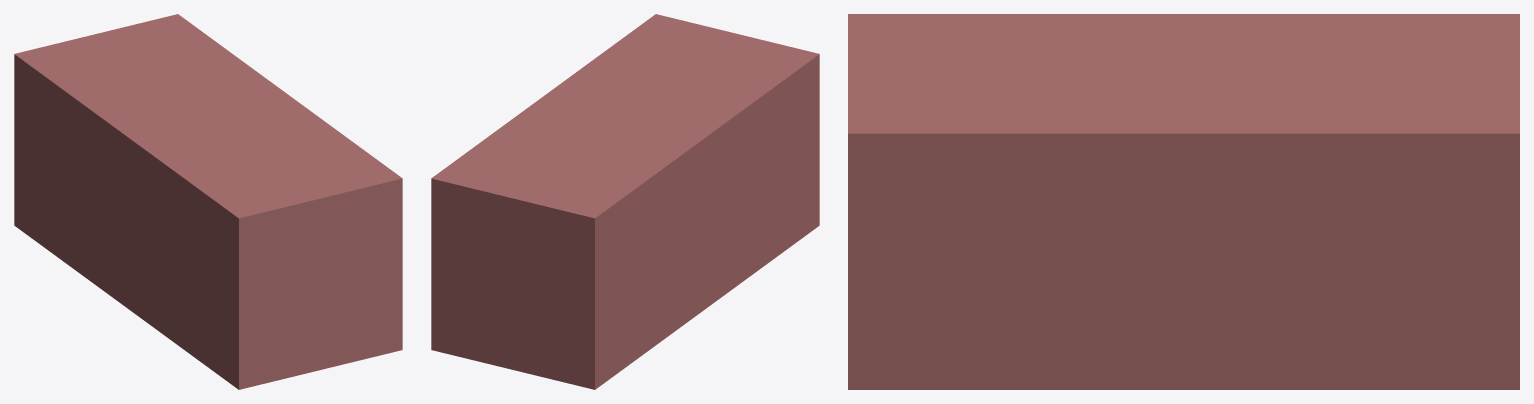
The model's file is bufebirlesik pivot cor.fbx.
3 views of the same model, side by side, from view 1: azimuth 30°, elevation 25°; view 2: azimuth 150°, elevation 25°; view 3: azimuth 270°, elevation 25° (orthographic). The views are drawn at different scales.
Parts seen in each view (by area): view 1: Object_1452, Object_1451, Object_1449; view 2: Object_1452, Object_1451, Object_1449; view 3: Object_1452, Object_1451, Object_1449.
Boxes of the visible parts, left/top/right/bottom form: Object_1452: left=14, top=14, right=402, bottom=389; Object_1451: left=33, top=231, right=191, bottom=354; Object_1449: left=191, top=347, right=229, bottom=382; Object_1452: left=431, top=14, right=819, bottom=389; Object_1451: left=614, top=252, right=772, bottom=375; Object_1449: left=772, top=224, right=810, bottom=259; Object_1452: left=848, top=14, right=1519, bottom=389; Object_1451: left=989, top=377, right=1463, bottom=389; Object_1449: left=876, top=377, right=989, bottom=389.
Size of the model in its own units: 40 by 43 by 95.
